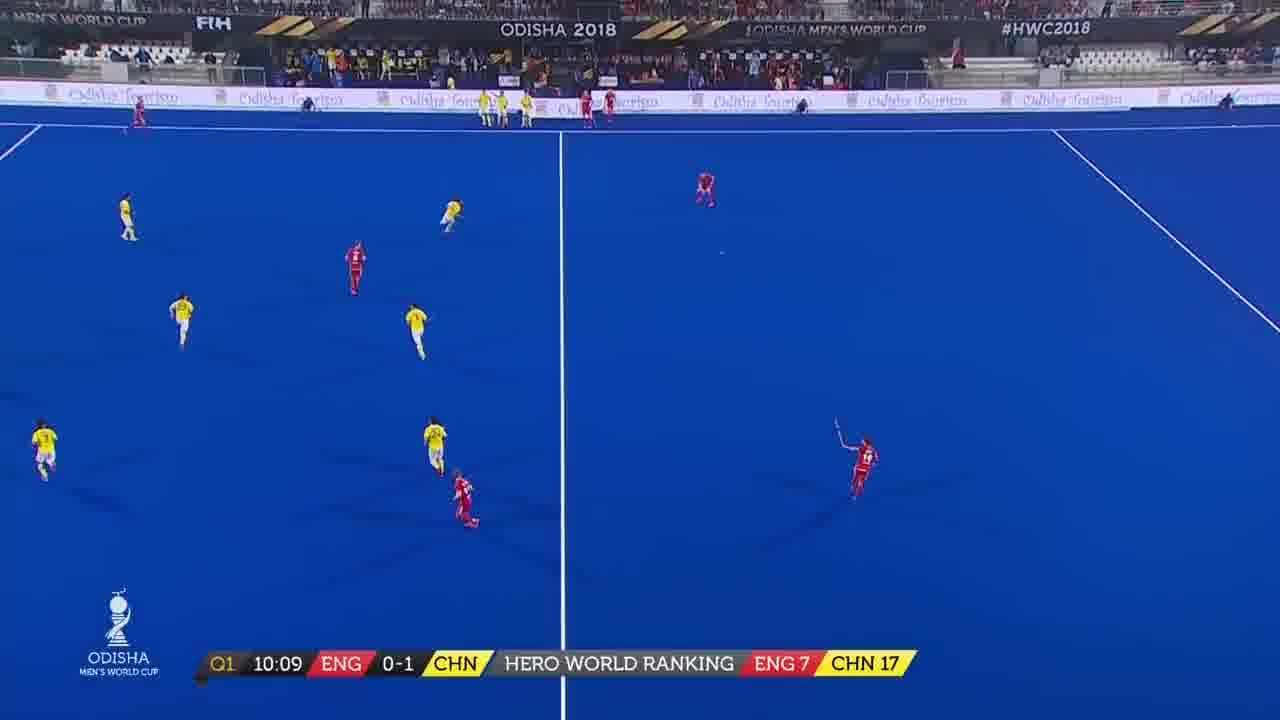ball: (718, 250, 725, 258)
